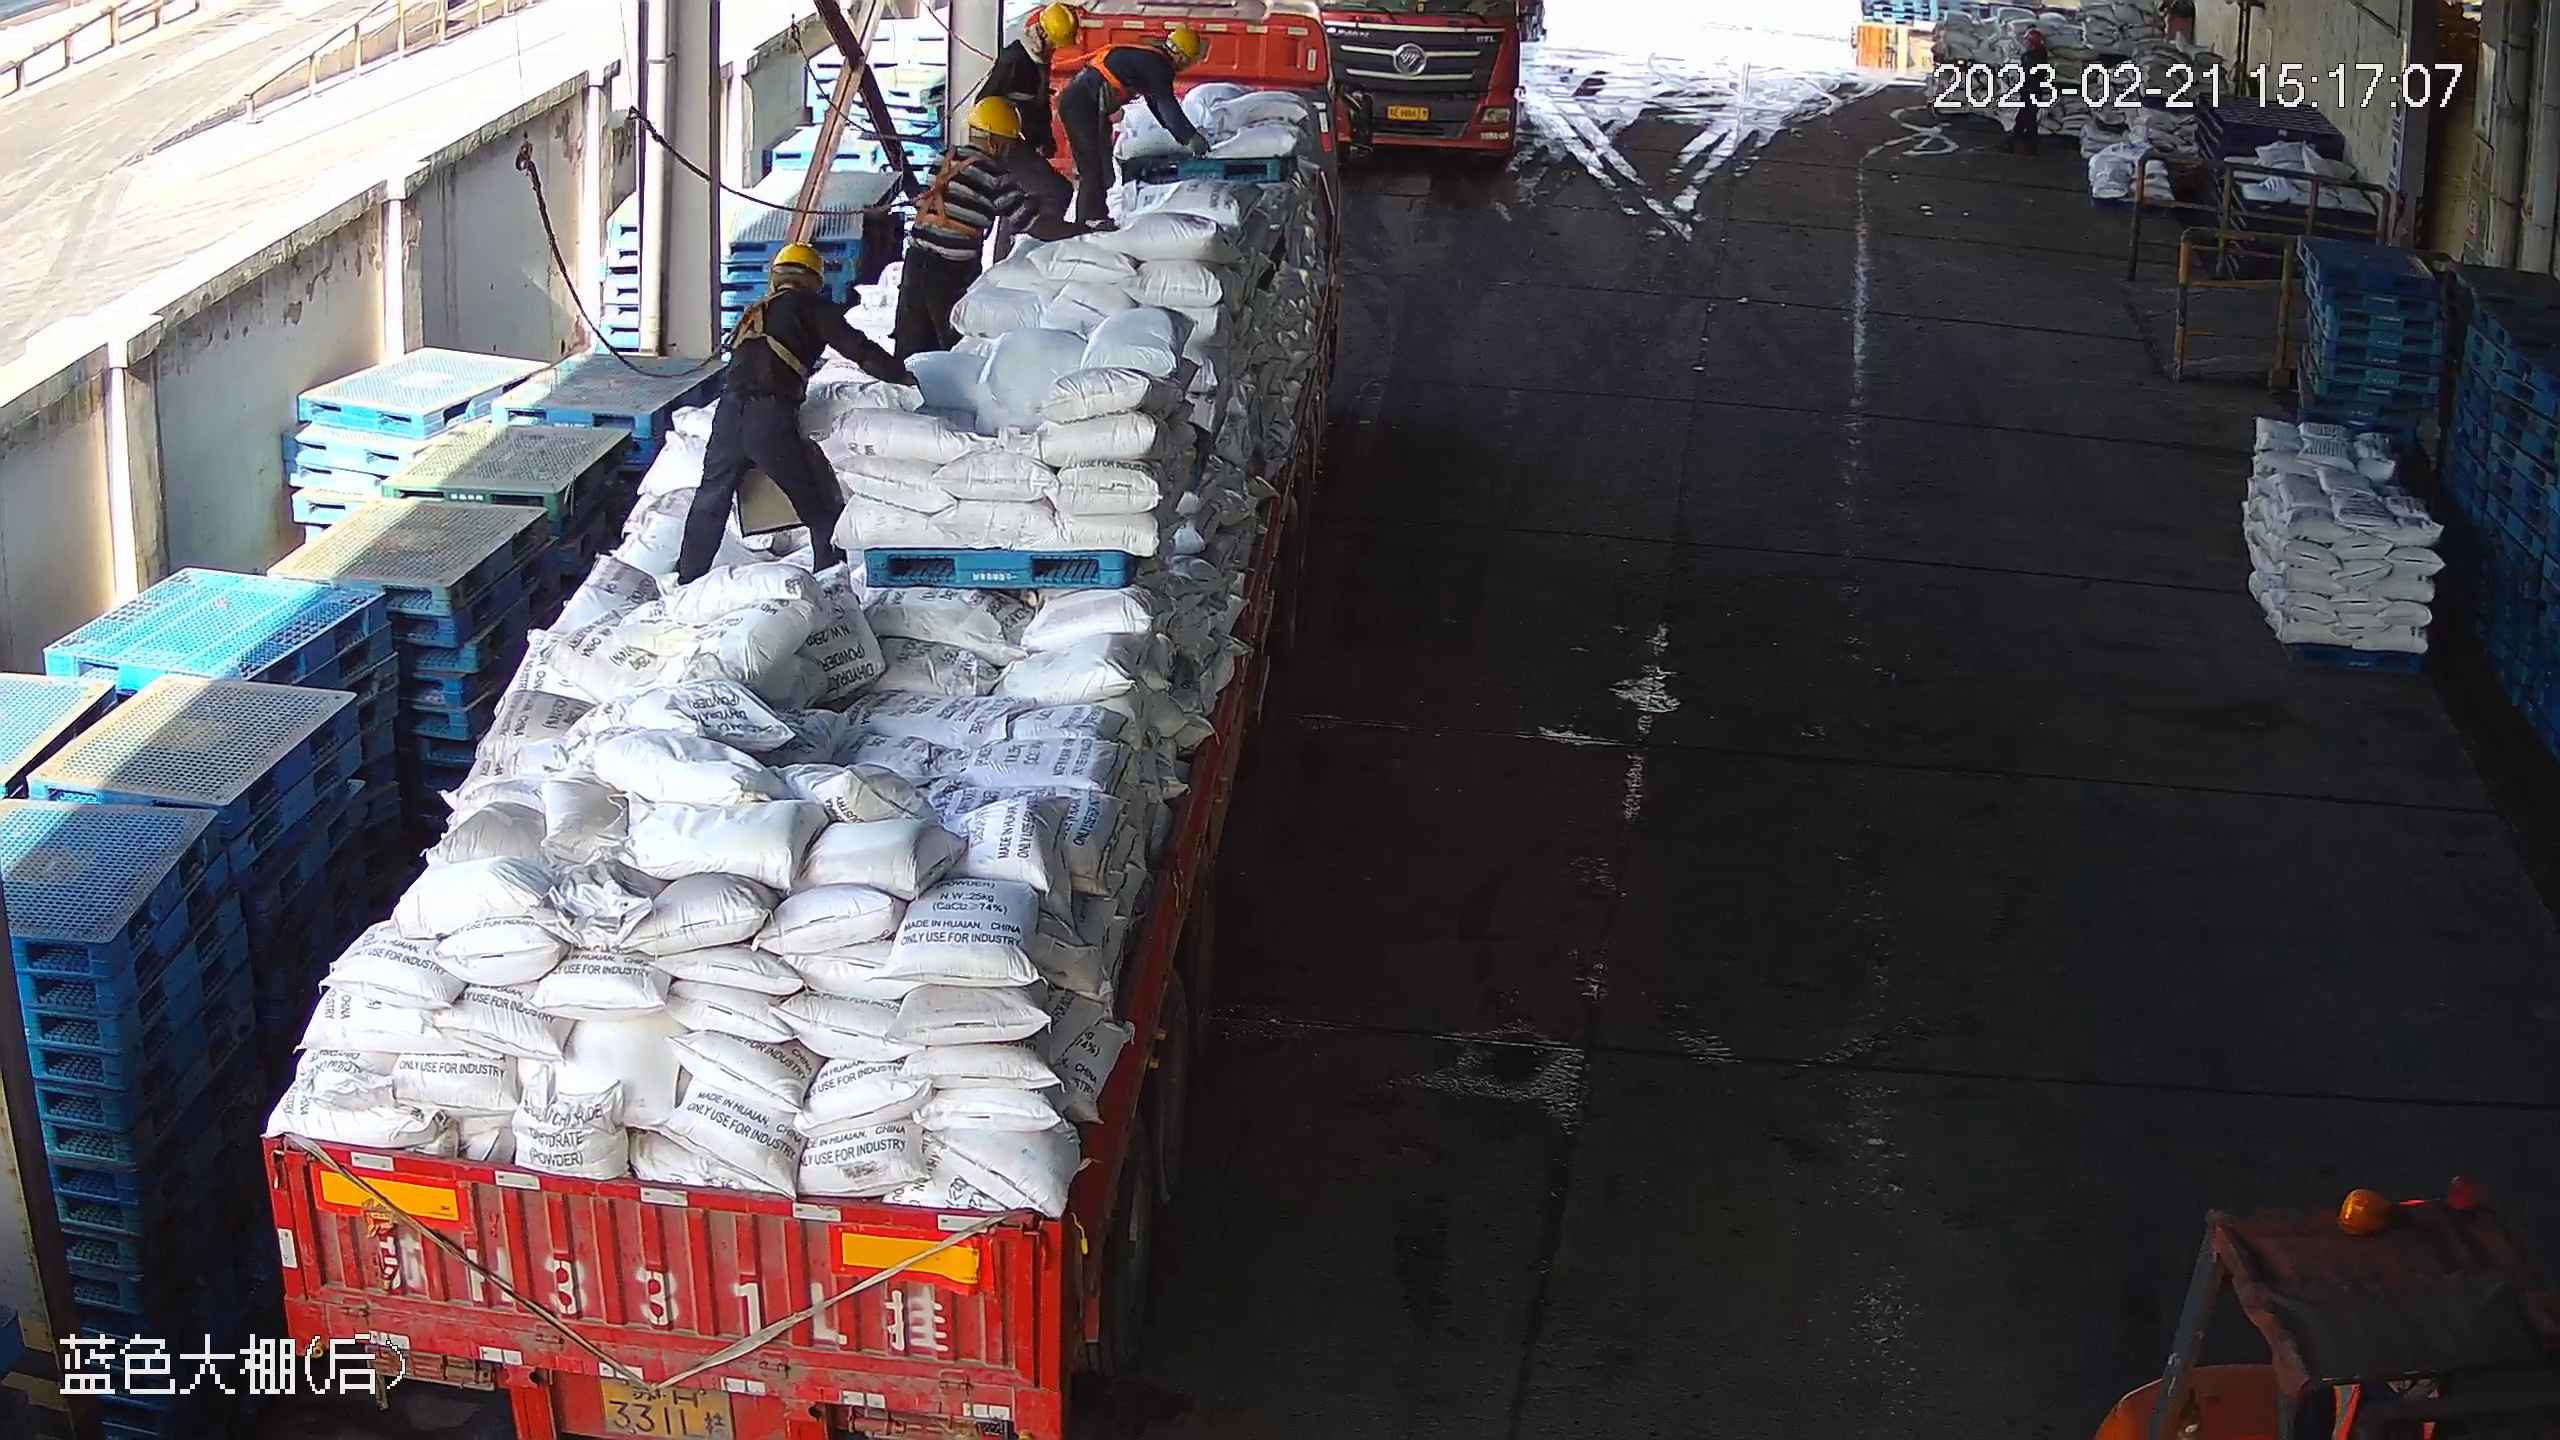belt: (732, 289, 804, 379), (922, 142, 981, 242), (1086, 37, 1161, 95)
head: (911, 93, 1028, 211), (723, 240, 838, 358), (1109, 25, 1203, 101), (989, 4, 1077, 79)
helmet: (960, 93, 1032, 133), (1034, 6, 1090, 46), (1166, 18, 1209, 67), (774, 244, 824, 280)
people: (668, 243, 918, 582), (885, 88, 1023, 370), (1051, 20, 1212, 235)
truck: (255, 1, 1392, 1440), (1323, 6, 1564, 171)
